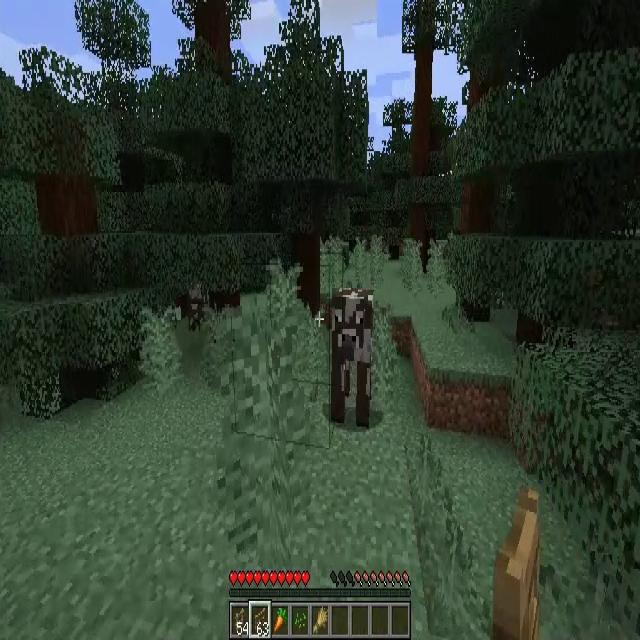cow: (334, 286, 374, 426)
